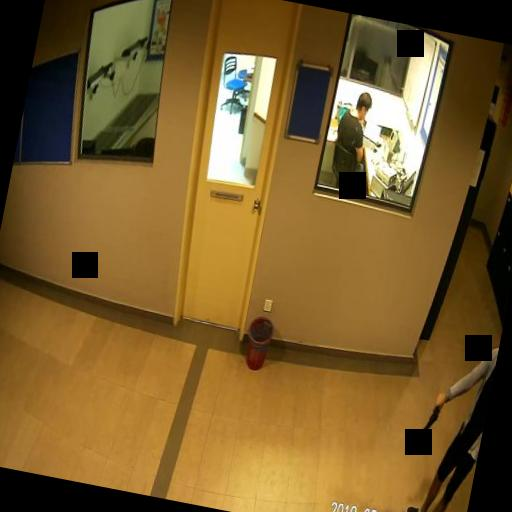Handgun: (418, 391, 443, 438)
